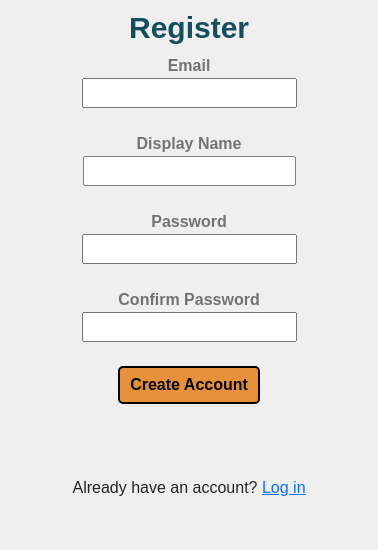
Test: Signup › should show an error message when passwords don't match
Type "TestUser" into the field labelled "Display Name".
click(189, 171); type("TestUser")  # box [82,156,296,186]
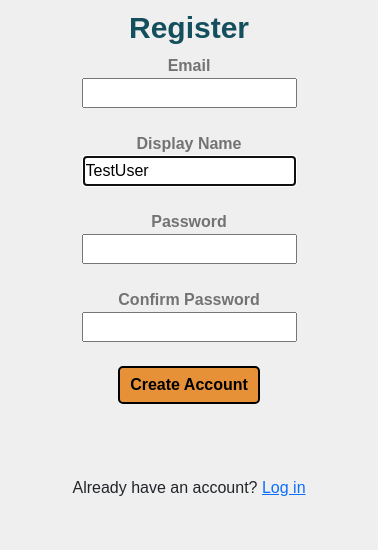
Type "test@example.com" into the field labelled "Email".
click(189, 93); type("test@example.com")  # box [82,78,296,108]
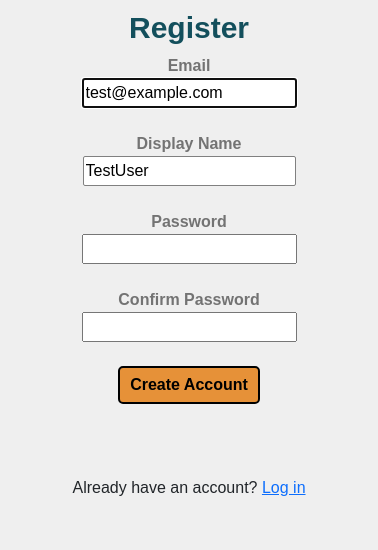
Type "password" into the password field labelled "Password".
click(189, 249); type("password")  # box [82,234,296,264]
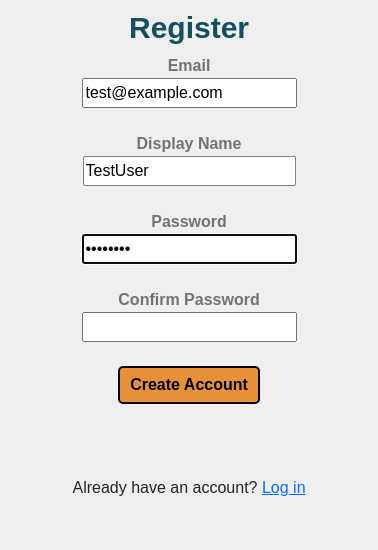
Type "notpassword" into the password field labelled "Confirm Password".
click(189, 327); type("notpassword")  # box [82,312,296,342]
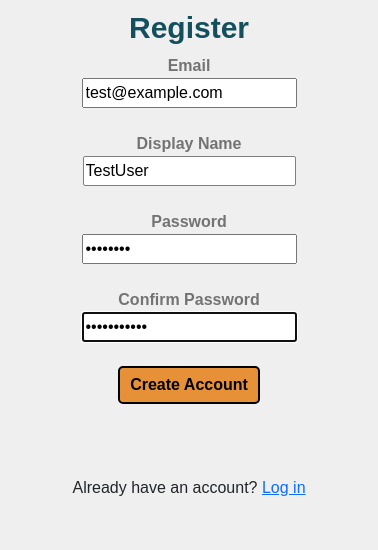
Click the button "Create Account".
click(189, 385)  # box [118,366,260,404]
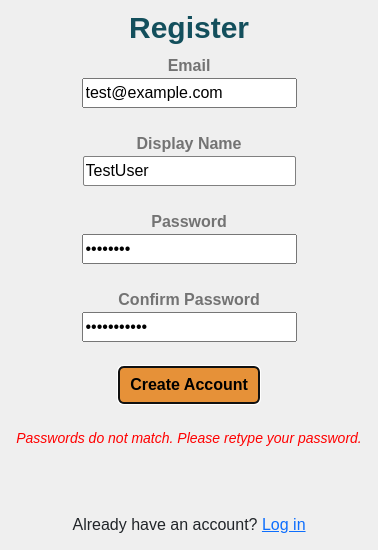
Expected: the text "Passwords do not match. Please retype your password." is shown, [16,428,362,449]
